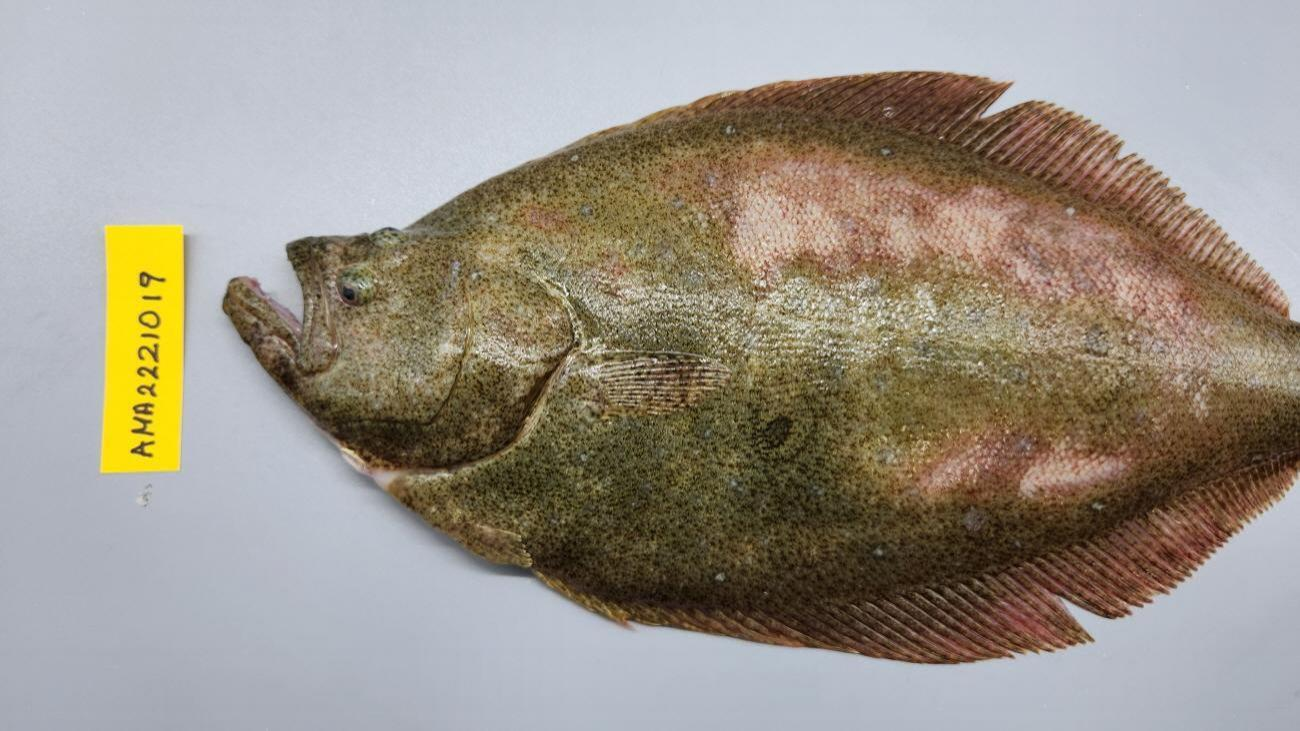MADYU: (667, 136, 1230, 511)
MAFDH: (985, 100, 1290, 319), (710, 71, 1016, 131)
